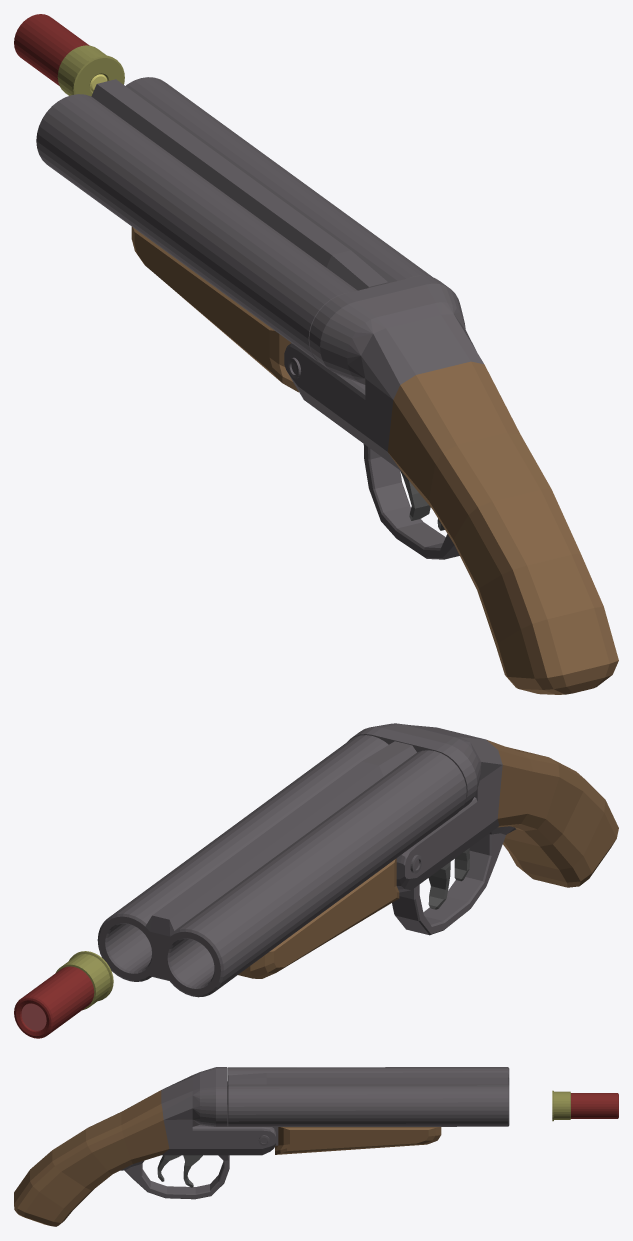
Rendered from TOZshort.fbx.
The picture shows the model from 3 angles, top to bottom: view 1: azimuth 30°, elevation 25°; view 2: azimuth 150°, elevation 25°; view 3: azimuth 270°, elevation 25°; orthographic projection. The views are drawn at different scales.
Visible parts, largest first — view 1: body, barrels, 12cal shell; view 2: barrels, body, 12cal shell, trigger front; view 3: barrels, body, 12cal shell, trigger front.
Part boxes in pixels (x1,y1,x2,y2): body: (284,275,618,694); barrels: (36,77,432,392); 12cal shell: (14,14,124,96); barrels: (97,735,466,997); body: (347,723,618,935); 12cal shell: (14,951,113,1038); trigger front: (428,862,450,909); barrels: (227,1067,509,1154); body: (14,1067,275,1226); 12cal shell: (552,1090,618,1121); trigger front: (183,1155,202,1187).
Size of the model in its own units: 40.42 by 77.57 by 289.
